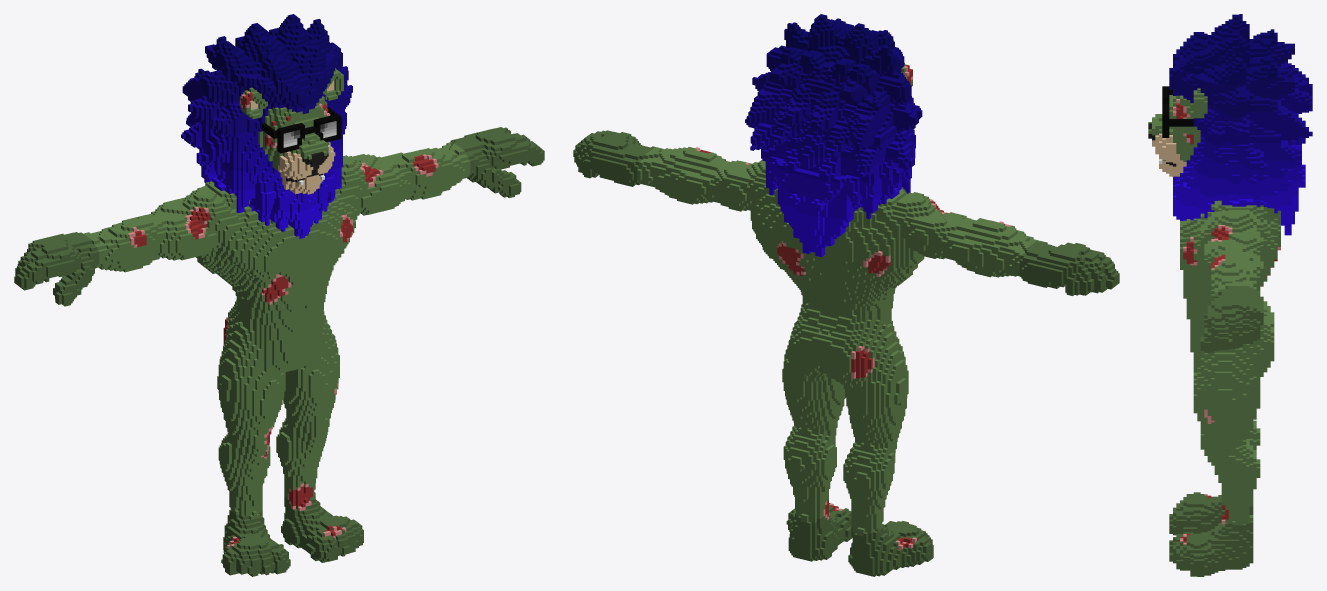
File: 636-At3FaWFv.glb
3 renders of one model, left to right at view 1: azimuth 30°, elevation 25°; view 2: azimuth 150°, elevation 25°; view 3: azimuth 270°, elevation 25°, orthographic. The views are drawn at different scales.
Parts seen in each view (by area): view 1: standard; view 2: standard; view 3: standard.
Part boxes in pixels (x1,y1,x2,y2): standard: (14,14,544,576); standard: (573,14,1119,576); standard: (1148,14,1312,576).
Bounding box in the file's own units: 17.2 × 16.5 × 4.7.
Materials: 4 (4 with a texture image).
